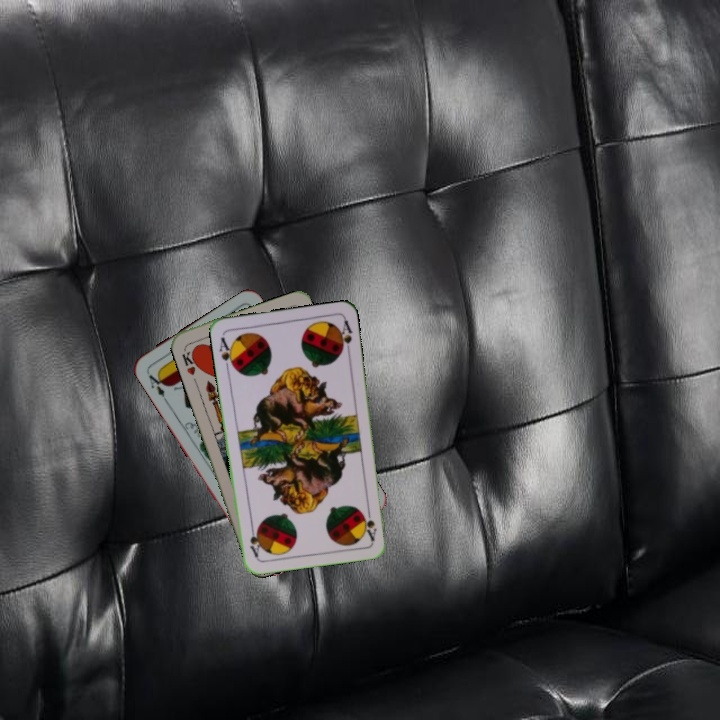EA: (143, 368, 170, 405)
HK: (178, 345, 202, 378)
SA: (215, 333, 238, 372), (359, 503, 379, 543)
